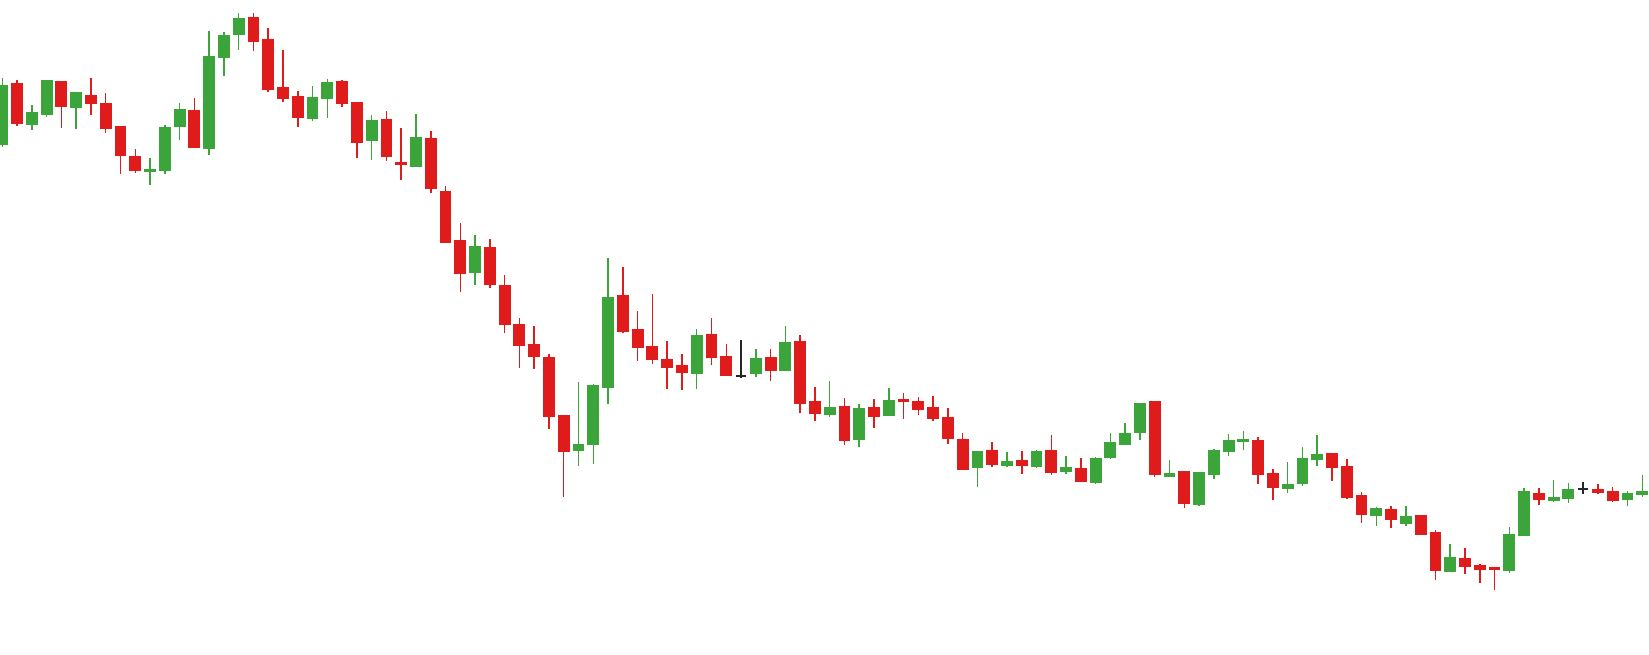sell: (38, 13, 274, 126)
